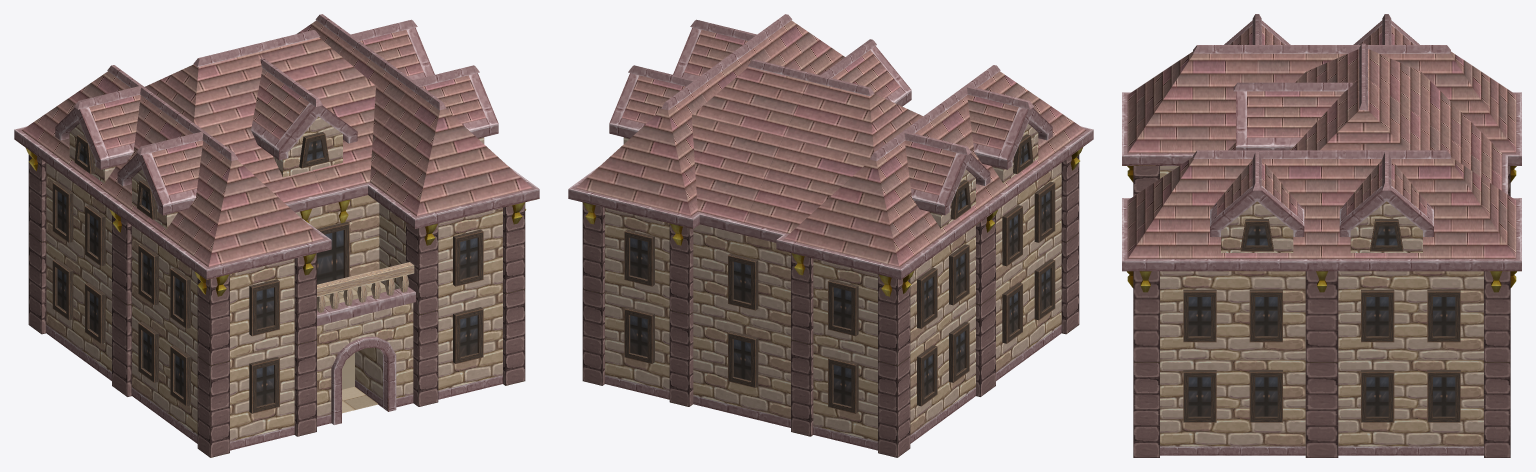
The model's file is Mansion.fbx.
3 renders of one model, left to right at view 1: azimuth 30°, elevation 25°; view 2: azimuth 150°, elevation 25°; view 3: azimuth 270°, elevation 25°, orthographic. The views are drawn at different scales.
Visible parts, largest first — view 1: obj; view 2: obj; view 3: obj.
Boxes of the visible parts, x1,y1,x2,y2 form: obj: (14,14,539,457); obj: (568,14,1093,457); obj: (1122,14,1521,457).
Size of the model in its own units: 7.34 by 6.06 by 7.2.
